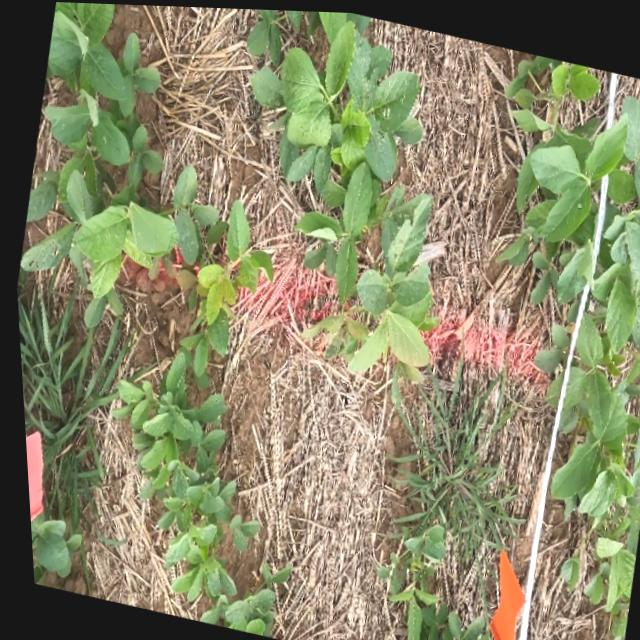grassy_weed: (14, 296, 125, 532), (389, 361, 510, 558)
soy_plant: (17, 2, 284, 635), (495, 51, 640, 640), (247, 8, 435, 398), (372, 512, 481, 640), (24, 519, 72, 583)
